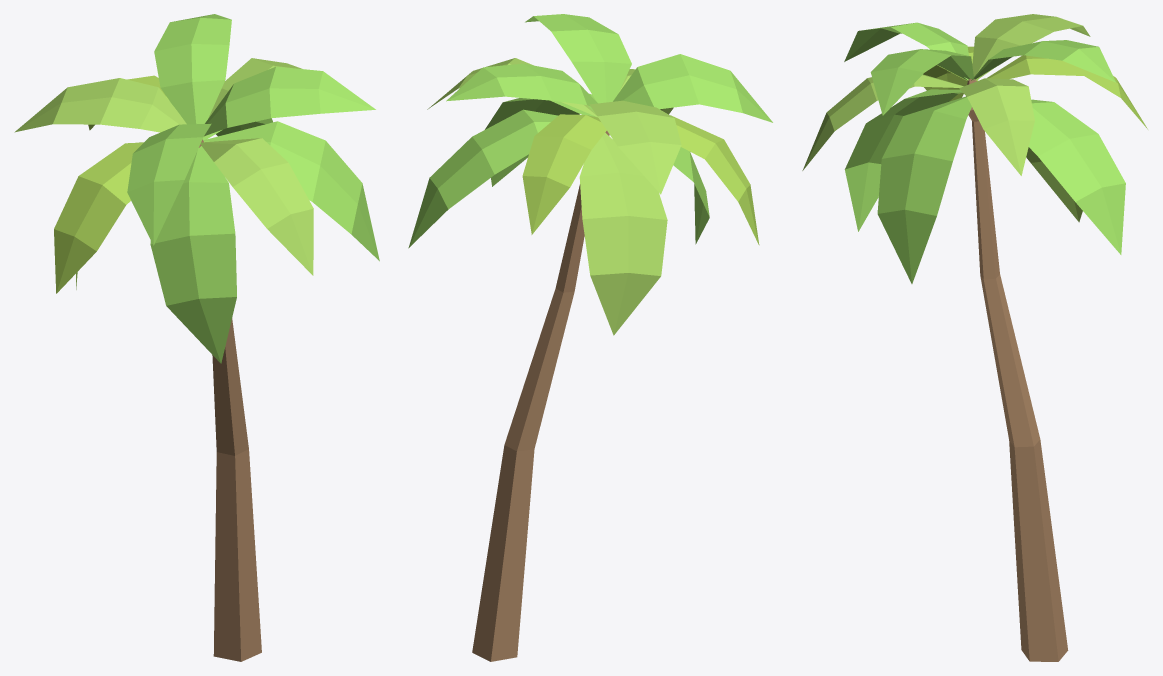
Rendered from Palm_Tree_OneSided_l_06_LOD.fbx.
3 renders of one model, left to right at view 1: azimuth 30°, elevation 25°; view 2: azimuth 150°, elevation 25°; view 3: azimuth 270°, elevation 25°, orthographic. The views are drawn at different scales.
Parts seen in each view (by area): view 1: Palm_Tree_OneSided_l_06_LOD0; view 2: Palm_Tree_OneSided_l_06_LOD0; view 3: Palm_Tree_OneSided_l_06_LOD0.
Part boxes in pixels (x1=…): Palm_Tree_OneSided_l_06_LOD0: x1=14, y1=14, x2=379, y2=661; Palm_Tree_OneSided_l_06_LOD0: x1=408, y1=14, x2=772, y2=661; Palm_Tree_OneSided_l_06_LOD0: x1=802, y1=14, x2=1147, y2=661.
Size of what is drawn, in the model's own units: 377 by 712 by 375.
